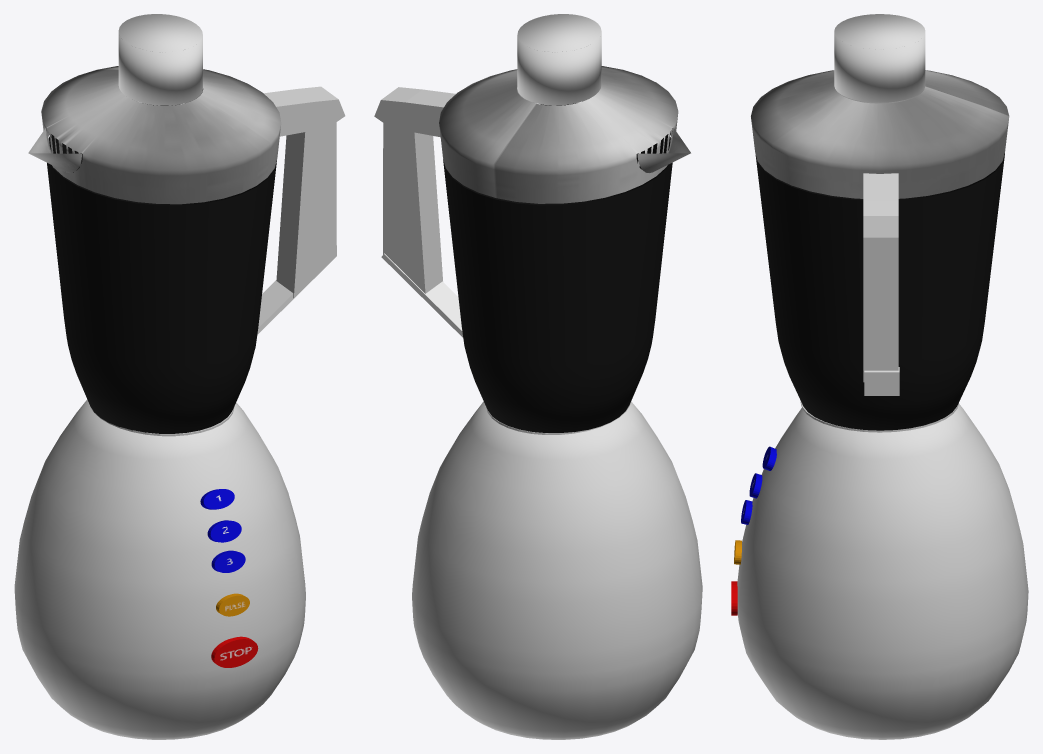
Rendered from asset.glb.
3 views of the same model, side by side, from view 1: azimuth 30°, elevation 25°; view 2: azimuth 150°, elevation 25°; view 3: azimuth 270°, elevation 25° (orthographic).
Visible parts, largest first — view 1: Cylinder, blender, cover main, handle main, cover top, Cylinder.005, handle 2, Cone, Cylinder.001, Cylinder.002, Cylinder.003, Cylinder.004; view 2: Cylinder, blender, cover main, handle main, cover top, handle 2, Cone; view 3: Cylinder, blender, cover main, cover top, handle main, handle 2.
Part boxes in pixels (<box>): Cylinder: <box>14,399,305,739</box>; blender: <box>47,104,276,433</box>; cover main: <box>41,66,281,204</box>; handle main: <box>264,86,345,298</box>; cover top: <box>118,14,202,105</box>; Cylinder.005: <box>211,636,258,667</box>; handle 2: <box>257,256,336,334</box>; Cone: <box>28,128,81,173</box>; Cylinder.001: <box>207,520,241,542</box>; Cylinder.002: <box>211,550,245,572</box>; Cylinder.003: <box>216,593,249,616</box>; Cylinder.004: <box>200,489,234,509</box>; Cylinder: <box>412,401,702,739</box>; blender: <box>443,103,672,432</box>; cover main: <box>439,66,678,203</box>; handle main: <box>374,87,455,293</box>; cover top: <box>517,14,601,105</box>; handle 2: <box>381,253,463,337</box>; Cone: <box>637,128,690,172</box>; Cylinder: <box>737,404,1028,739</box>; blender: <box>755,153,1004,430</box>; cover main: <box>751,70,1009,198</box>; cover top: <box>834,14,925,102</box>; handle main: <box>863,173,898,382</box>; handle 2: <box>864,367,899,395</box>.
Bounding box in the file's own units: 2.96 × 6.14 × 2.47.
9 materials, 7 textured.
